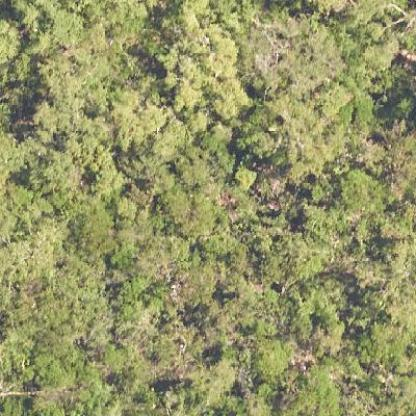tree-top: (159, 19, 252, 124), (243, 90, 333, 174), (289, 276, 345, 354), (64, 199, 118, 263)
